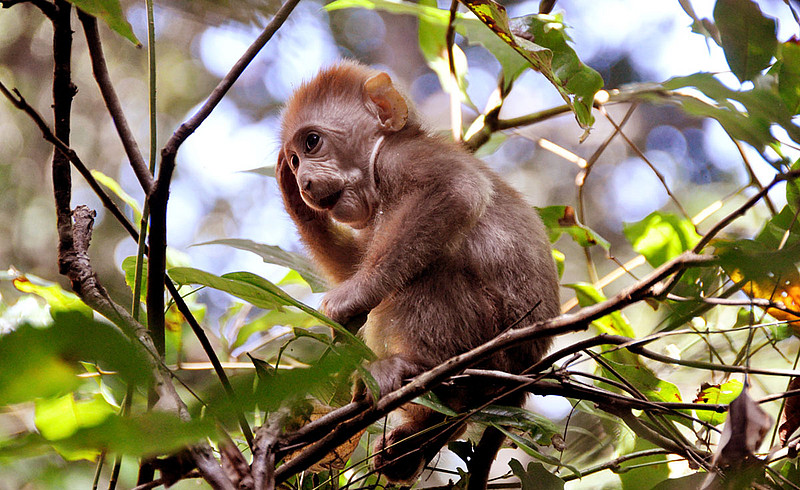monkey: (258, 56, 588, 438)
